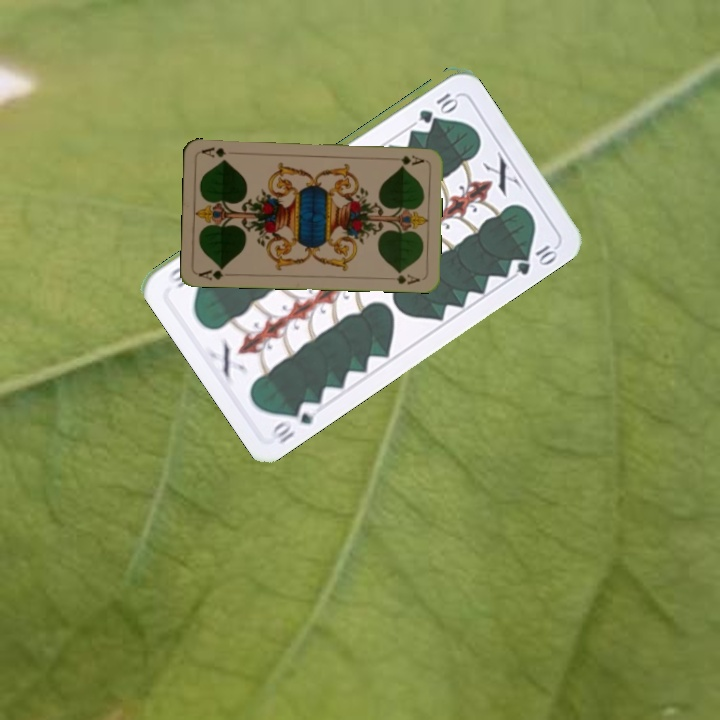G10: (268, 397, 323, 447), (415, 88, 460, 124)
GA: (195, 263, 228, 283), (397, 151, 426, 167)
